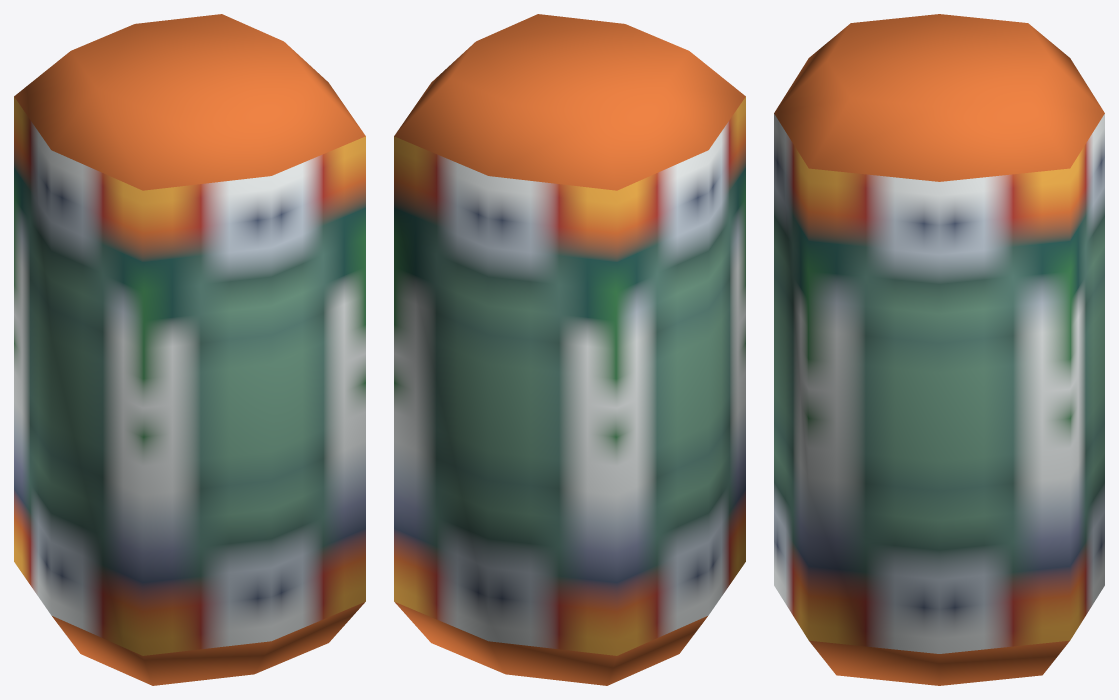
File: trash_can.fbx
3 renders of one model, left to right at view 1: azimuth 30°, elevation 25°; view 2: azimuth 150°, elevation 25°; view 3: azimuth 270°, elevation 25°, orthographic.
Parts seen in each view (by area): view 1: cilinder; view 2: cilinder; view 3: cilinder.
Part boxes in pixels (x1,y1,x2,y2): cilinder: (14,14,365,685); cilinder: (394,14,745,685); cilinder: (774,14,1104,685).
Size of the model in its own units: 249 by 482 by 253.
1 material, 1 textured.
